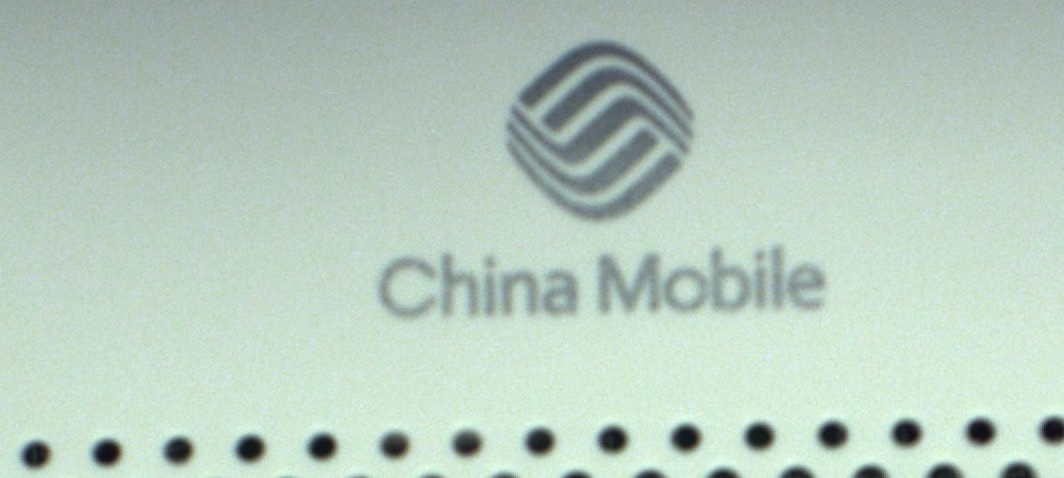AA_ChinaMobile: (367, 38, 837, 316)
